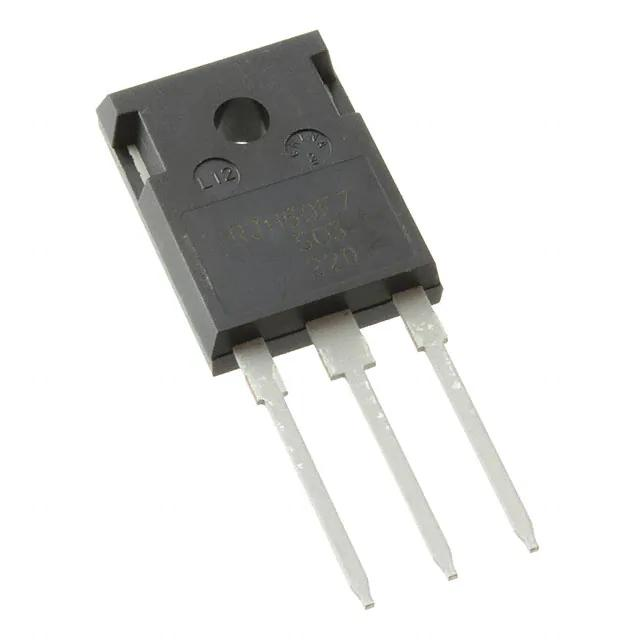Transistor: (89, 25, 519, 592)
